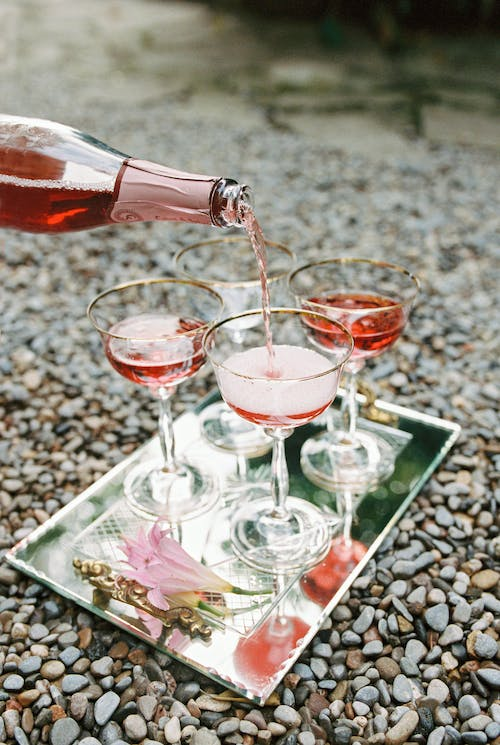alcohol: (201, 304, 355, 574), (86, 276, 225, 519), (0, 112, 255, 237), (286, 255, 422, 485), (171, 235, 297, 354)
